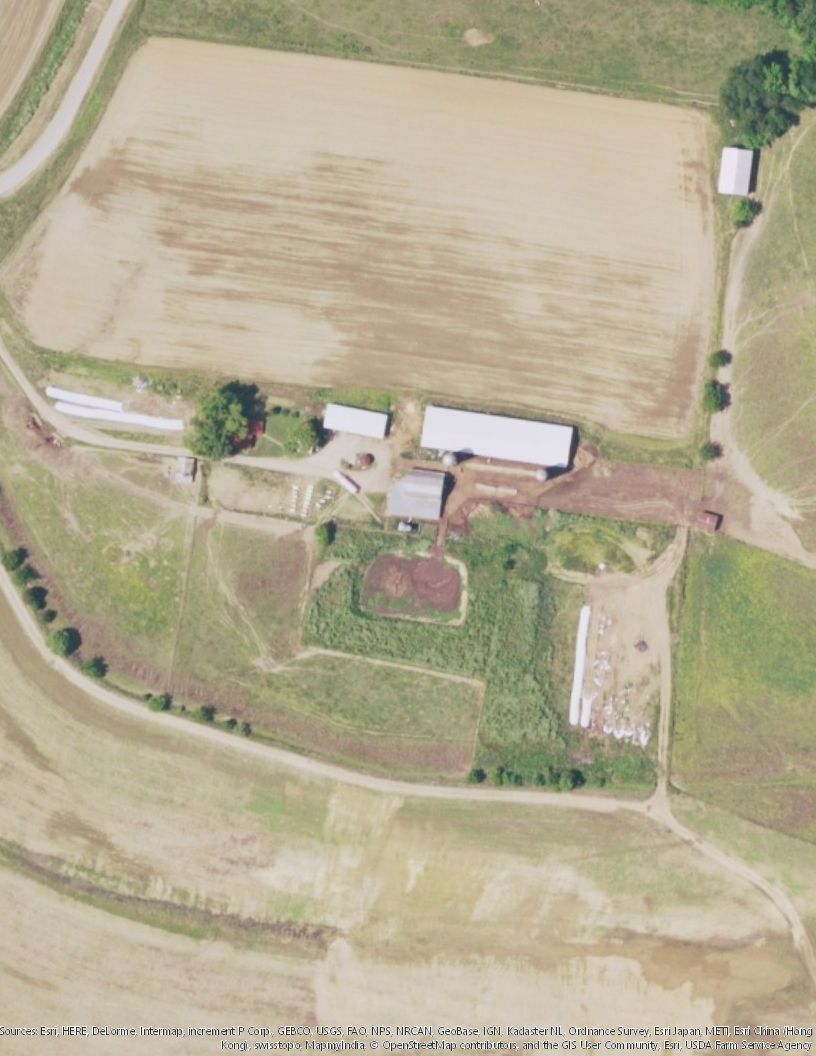cafo: (413, 400, 583, 477), (319, 399, 400, 443)
